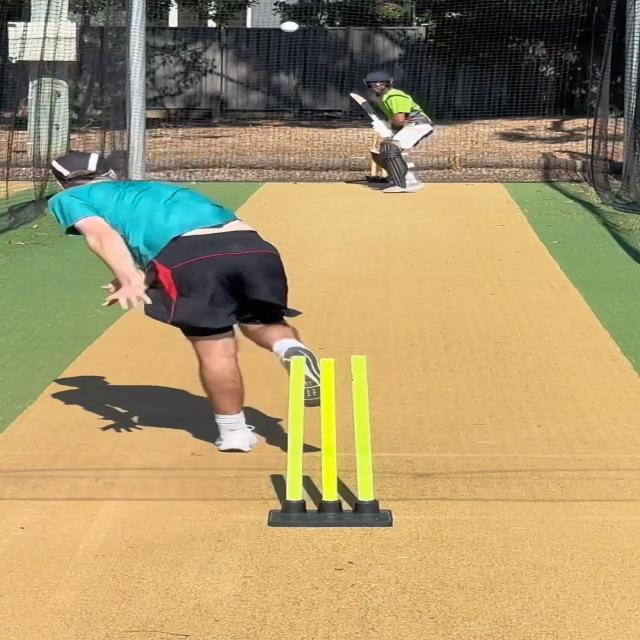ball: (278, 21, 302, 35)
stump: (265, 353, 396, 529)
